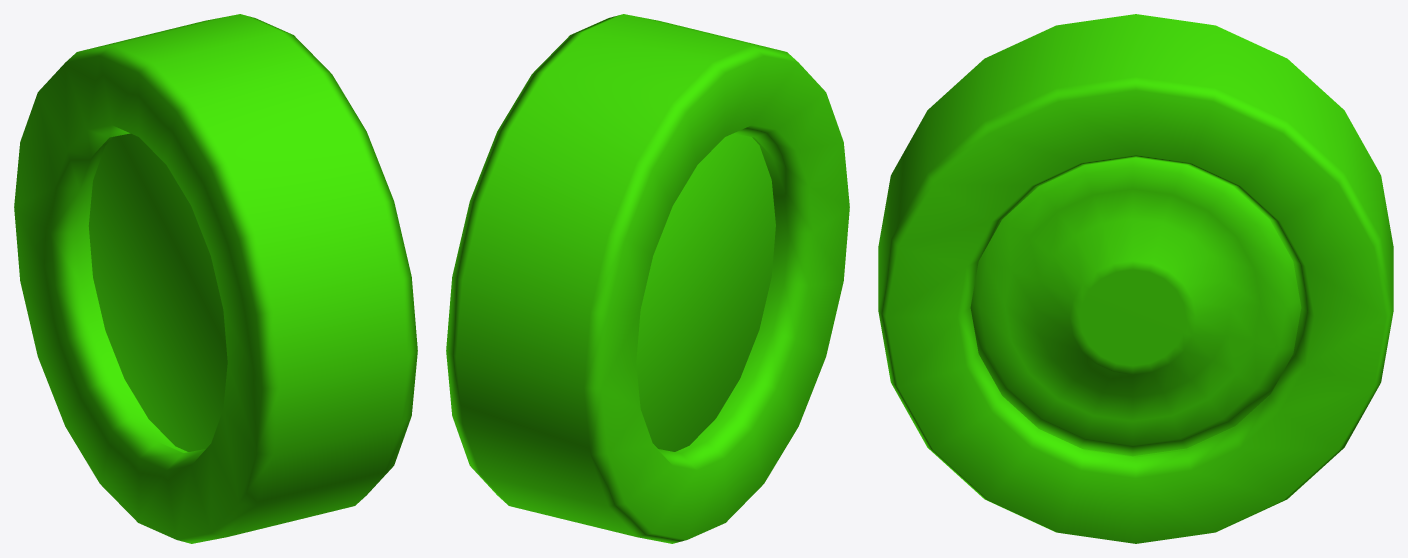
File: Truck_Wheel_01.fbx
3 views of the same model, side by side, from view 1: azimuth 30°, elevation 25°; view 2: azimuth 150°, elevation 25°; view 3: azimuth 270°, elevation 25° (orthographic).
Parts seen in each view (by area): view 1: Truck_Wheel_01; view 2: Truck_Wheel_01; view 3: Truck_Wheel_01.
Part boxes in pixels (box(x1,y1,x2,y2)): Truck_Wheel_01: box(14, 14, 417, 543); Truck_Wheel_01: box(446, 14, 849, 543); Truck_Wheel_01: box(878, 14, 1393, 543).
Bounding box in the file's own units: 42.37 × 120 × 120.
